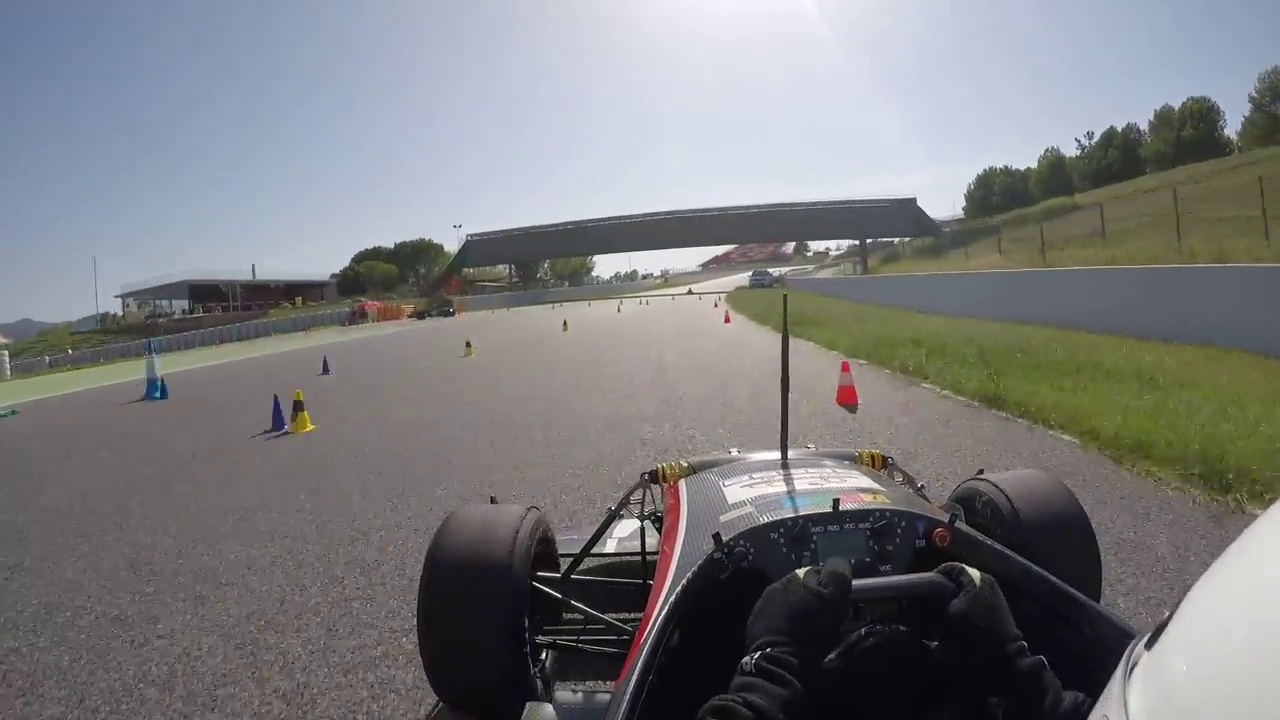Cone: (285, 389, 318, 438), (835, 359, 862, 411), (265, 391, 289, 436)
